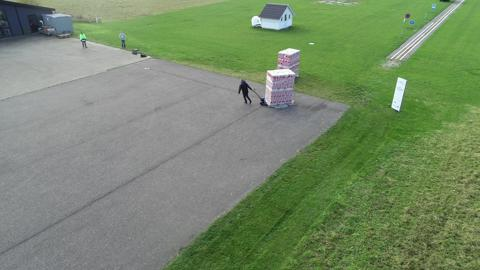RockwoolPallet: (278, 47, 301, 78)
